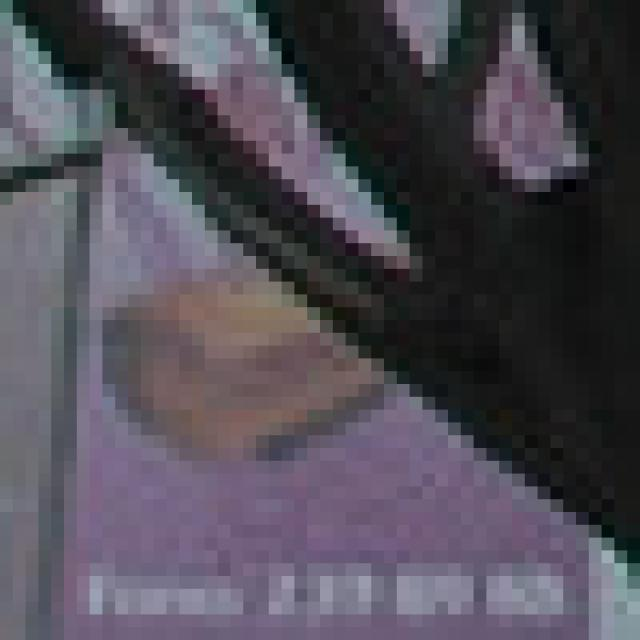no_fire: (0, 0, 614, 537)
